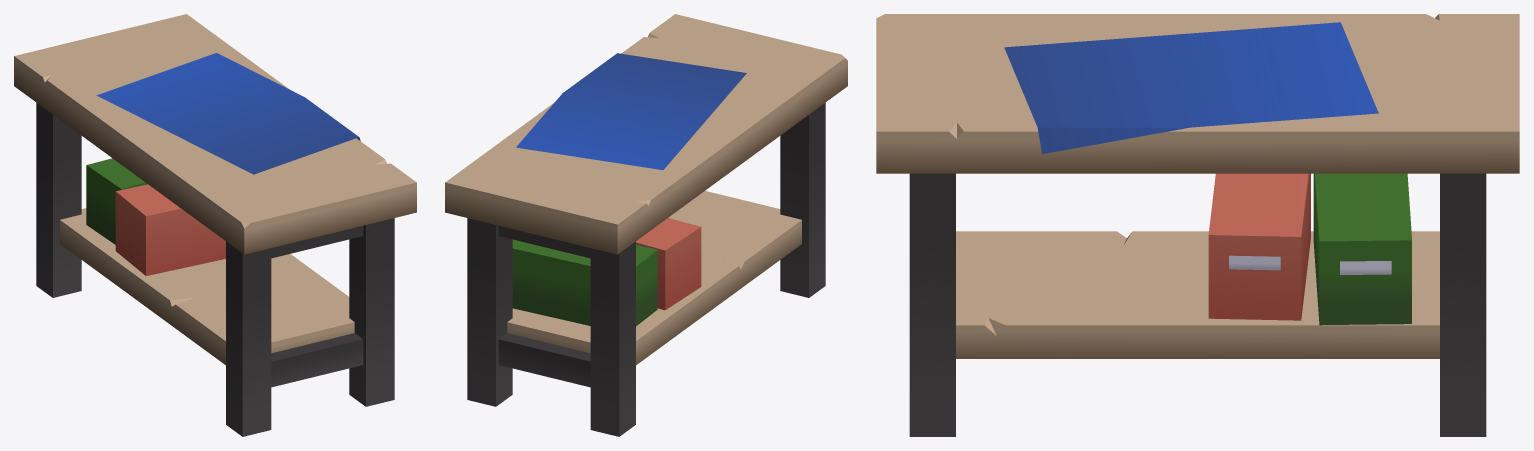
Rendered from workbench.fbx.
The picture shows the model from 3 angles, left to right: view 1: azimuth 30°, elevation 25°; view 2: azimuth 150°, elevation 25°; view 3: azimuth 270°, elevation 25°; orthographic projection. The views are drawn at different scales.
Parts seen in each view (by area): view 1: Top, Stands, Blueprint, Box1, Box2; view 2: Top, Stands, Blueprint, Box2, Box1; view 3: Top, Blueprint, Stands, Box2, Box1, Box1etiquet, Box2etiquet.
Part boxes in pixels (x1,y1,x2,y2): Top: (14,14,416,364); Stands: (36,103,394,436); Blueprint: (96,53,360,174); Box1: (115,184,225,275); Box2: (86,158,147,244); Top: (445,14,847,364); Stands: (467,103,825,436); Blueprint: (516,53,746,169); Box2: (512,239,657,326); Box1: (636,218,701,310); Top: (876,14,1519,358); Blueprint: (1004,22,1378,154); Stands: (909,173,1486,436); Box2: (1313,173,1411,325); Box1: (1208,173,1310,320); Box1etiquet: (1229,255,1280,270); Box2etiquet: (1340,261,1391,274).
Bounding box in the file's own units: 87.17 × 105 × 194.
